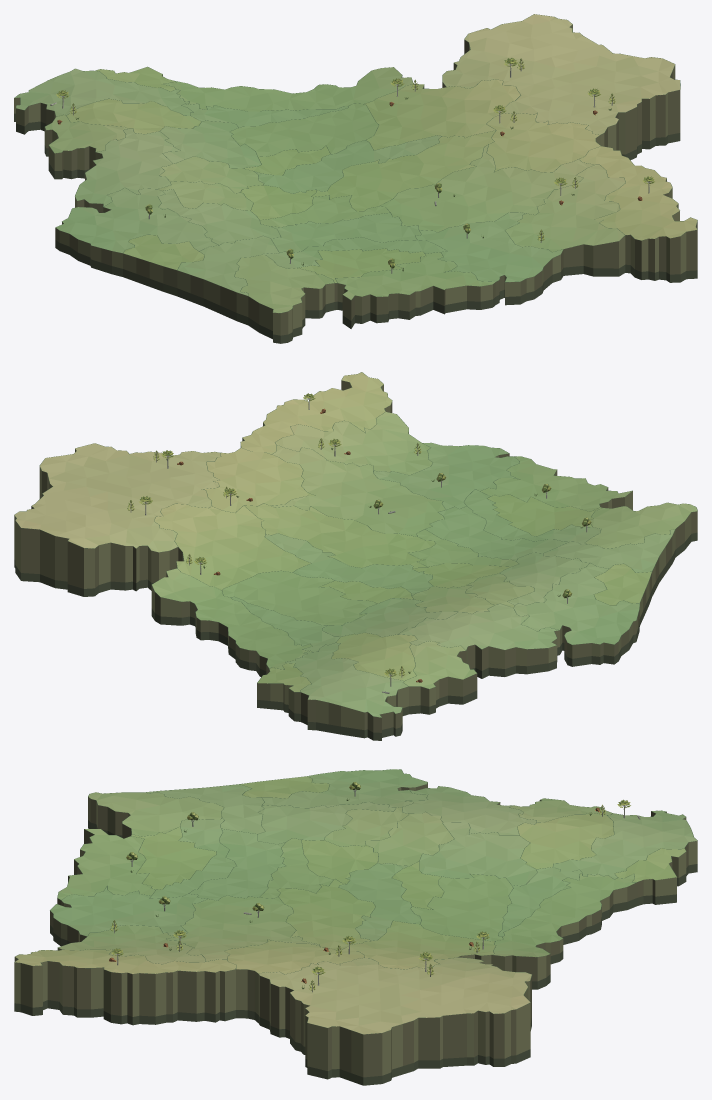
File: araucania-decorada-v03.glb
The picture shows the model from 3 angles, top to bottom: view 1: azimuth 30°, elevation 25°; view 2: azimuth 150°, elevation 25°; view 3: azimuth 270°, elevation 25°; orthographic projection. The views are drawn at different scales.
Visible parts, largest first — view 1: 09205 · Lonquimay, 09104 · Curarrehue, 09103 · Cunco, 09115 · Pucón, 09109 · Loncoche, 09102 · Carahue, 09203 · Curacautín, 09120 · Villarrica, 09118 · Toltén, 09119 · Vilcún, 09201 · Angol, 09202 · Collipulli (+20 smaller); view 2: 09205 · Lonquimay, 09103 · Cunco, 09201 · Angol, 09203 · Curacautín, 09202 · Collipulli, 09102 · Carahue, 09207 · Lumaco, 09119 · Vilcún, 09104 · Curarrehue, 09115 · Pucón, 09120 · Villarrica, 09211 · Victoria (+20 smaller); view 3: 09205 · Lonquimay, 09104 · Curarrehue, 09202 · Collipulli, 09103 · Cunco, 09120 · Villarrica, 09201 · Angol, 09211 · Victoria, 09210 · Traiguén, 09118 · Toltén, 09109 · Loncoche, 09119 · Vilcún, 09102 · Carahue (+20 smaller).
Part boxes in pixels (left/top/right/bottom): 09205 · Lonquimay: left=442, top=14, right=680, bottom=160; 09104 · Curarrehue: left=579, top=146, right=697, bottom=282; 09103 · Cunco: left=379, top=144, right=595, bottom=232; 09115 · Pucón: left=505, top=165, right=625, bottom=276; 09109 · Loncoche: left=335, top=252, right=495, bottom=328; 09102 · Carahue: left=55, top=187, right=219, bottom=276; 09203 · Curacautín: left=363, top=79, right=520, bottom=150; 09120 · Villarrica: left=415, top=212, right=563, bottom=305; 09118 · Toltén: left=234, top=255, right=334, bottom=343; 09119 · Vilcún: left=312, top=130, right=495, bottom=211; 09201 · Angol: left=14, top=68, right=193, bottom=134; 09202 · Collipulli: left=162, top=67, right=412, bottom=111; 09205 · Lonquimay: left=14, top=443, right=220, bottom=596; 09103 · Cunco: left=270, top=444, right=445, bottom=536; 09201 · Angol: left=285, top=642, right=408, bottom=740; 09203 · Curacautín: left=154, top=503, right=310, bottom=590; 09202 · Collipulli: left=151, top=568, right=312, bottom=676; 09102 · Carahue: left=513, top=563, right=639, bottom=666; 09207 · Lumaco: left=398, top=604, right=559, bottom=678; 09119 · Vilcún: left=244, top=503, right=435, bottom=568; 09104 · Curarrehue: left=240, top=372, right=392, bottom=454; 09115 · Pucón: left=275, top=412, right=432, bottom=475; 09120 · Villarrica: left=373, top=442, right=519, bottom=509; 09211 · Victoria: left=222, top=571, right=376, bottom=625; 09205 · Lonquimay: left=258, top=957, right=532, bottom=1085; 09104 · Curarrehue: left=14, top=949, right=236, bottom=1025; 09202 · Collipulli: left=491, top=873, right=637, bottom=989; 09103 · Cunco: left=166, top=895, right=319, bottom=961; 09120 · Villarrica: left=50, top=887, right=207, bottom=946; 09201 · Angol: left=553, top=810, right=697, bottom=879; 09211 · Victoria: left=410, top=874, right=512, bottom=941; 09210 · Traiguén: left=419, top=822, right=537, bottom=885; 09118 · Toltén: left=88, top=792, right=224, bottom=838; 09109 · Loncoche: left=57, top=829, right=156, bottom=905; 09119 · Vilcún: left=277, top=879, right=375, bottom=950; 09102 · Carahue: left=261, top=769, right=428, bottom=808.
Bounding box in the file's own units: 160 × 17.02 × 156.
2 materials, 2 textured.
